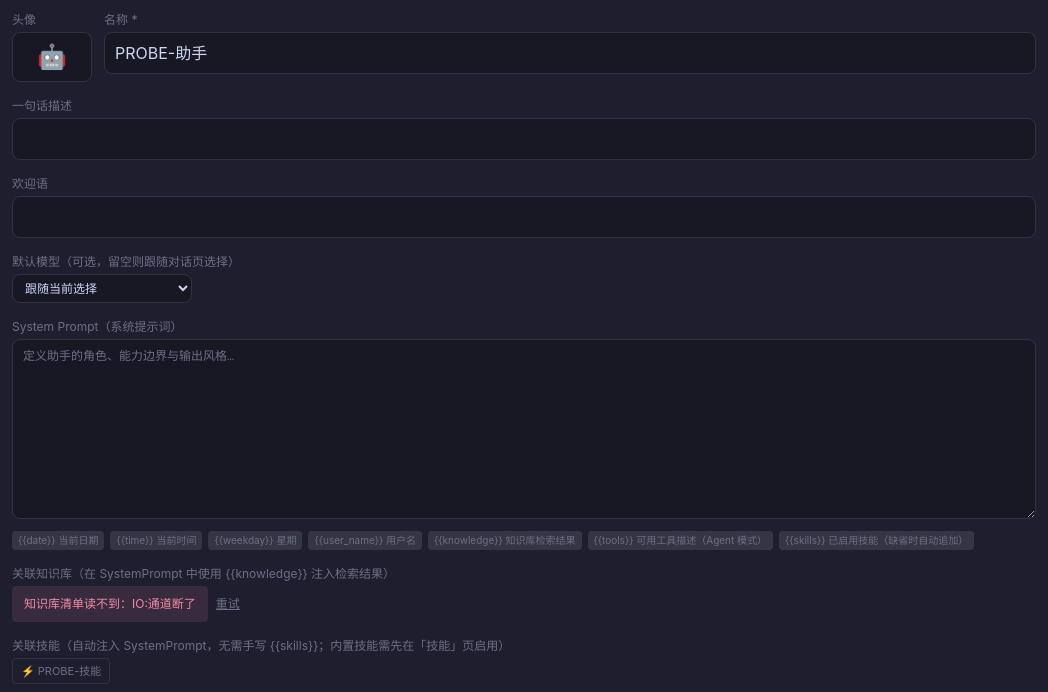
Test: ① 知识库那一读：失败说一句、读到即收回，「尚未创建知识库」让位 › 那颗重试键：先失败再成功 ⇒ 那句自己退场、chip 上屏
What coordinates should you click on to do the following:
click the button with test id "assistant-editor-kbs-retry"
I would click on:
 (228, 604)
Its box is 216,596 -> 240,612.
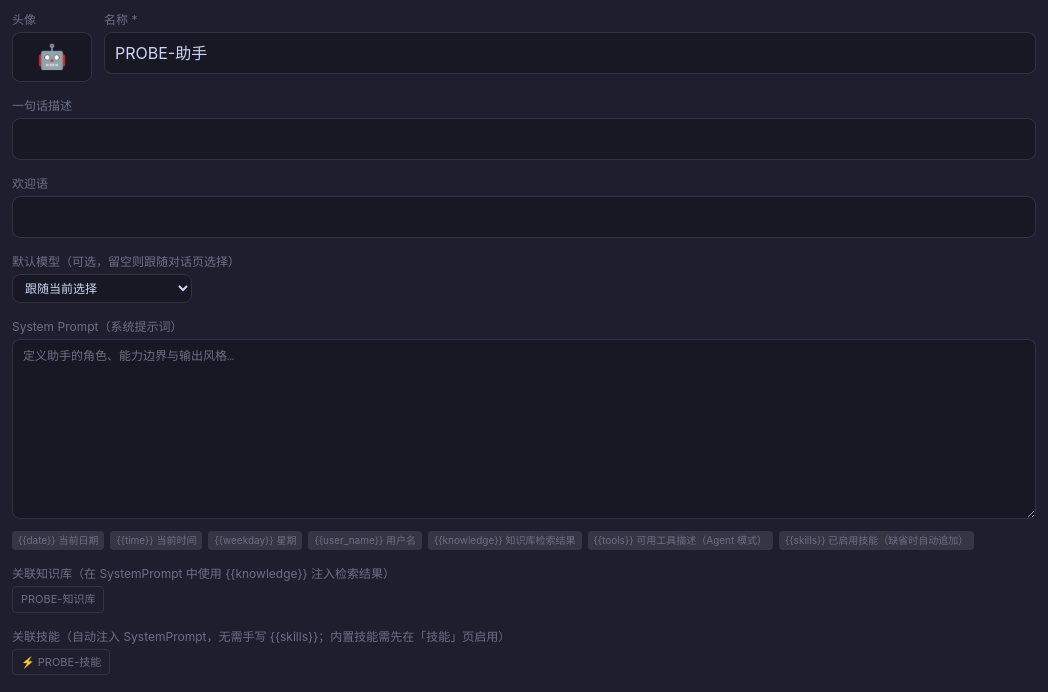
Result: the text "PROBE-知识库" is shown at 12,586 -> 104,612
